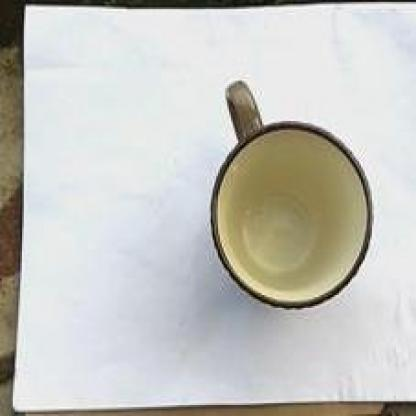mug: (201, 72, 383, 299)
